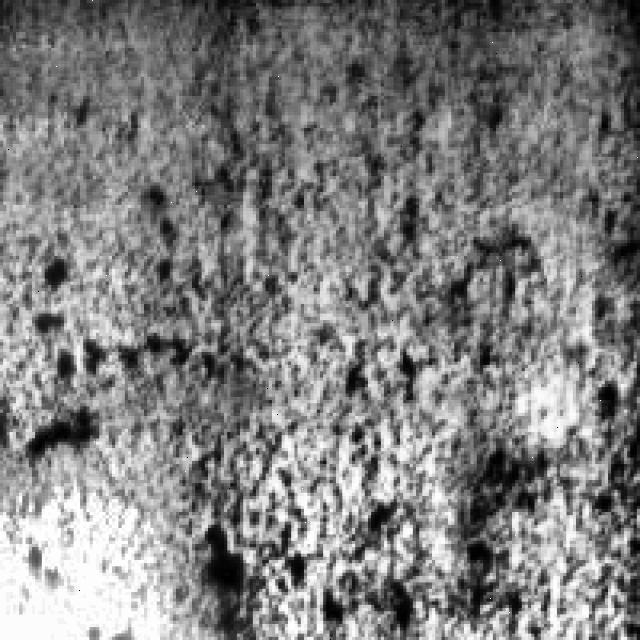Rolled_in_Scale: (32, 48, 477, 634), (438, 61, 634, 634)
